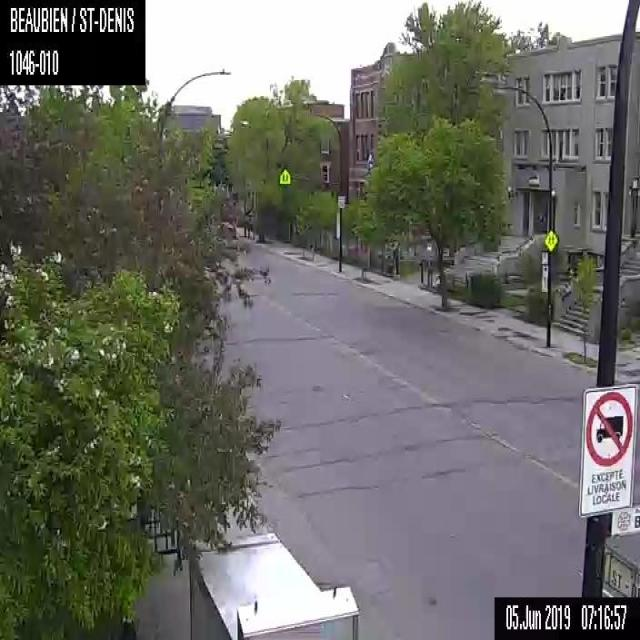vehicle: (218, 216, 238, 236)
